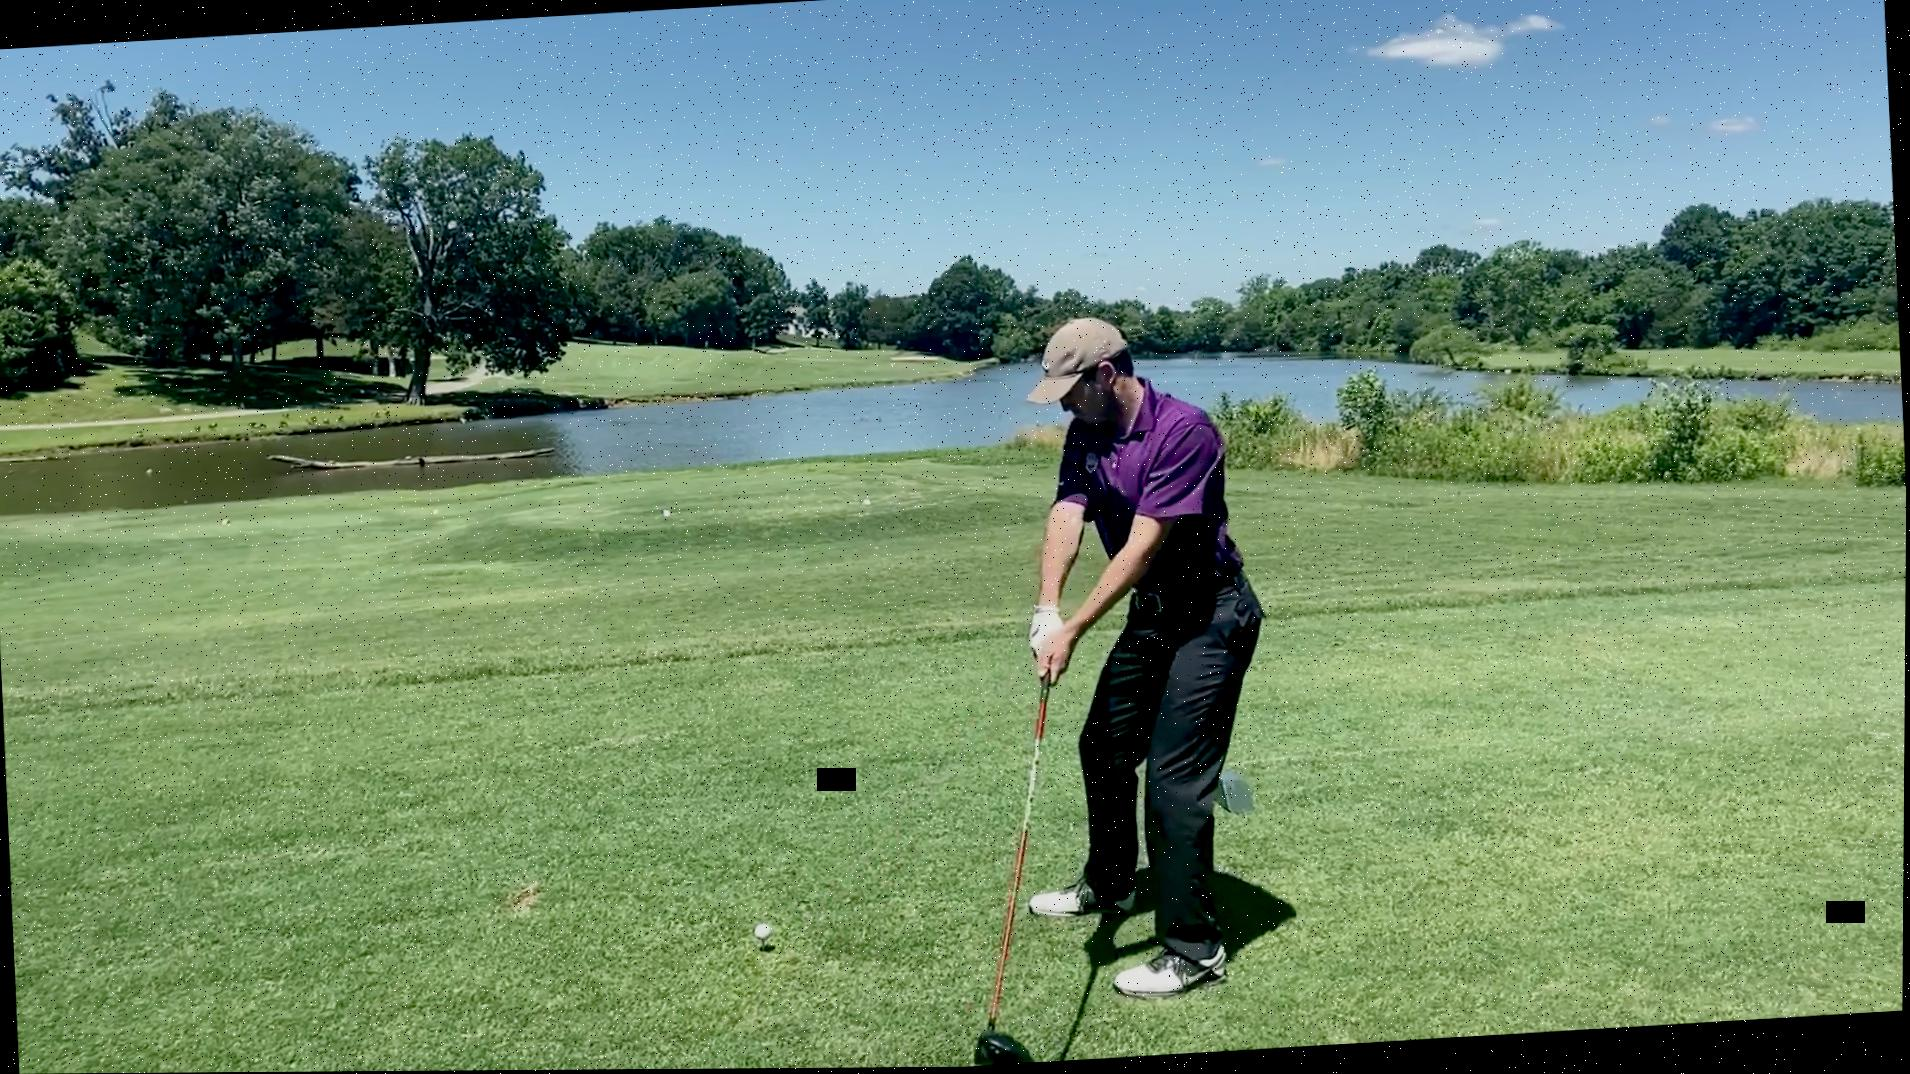ClubHead: (959, 1018, 1038, 1069)
GolfBall: (753, 923, 774, 944)
